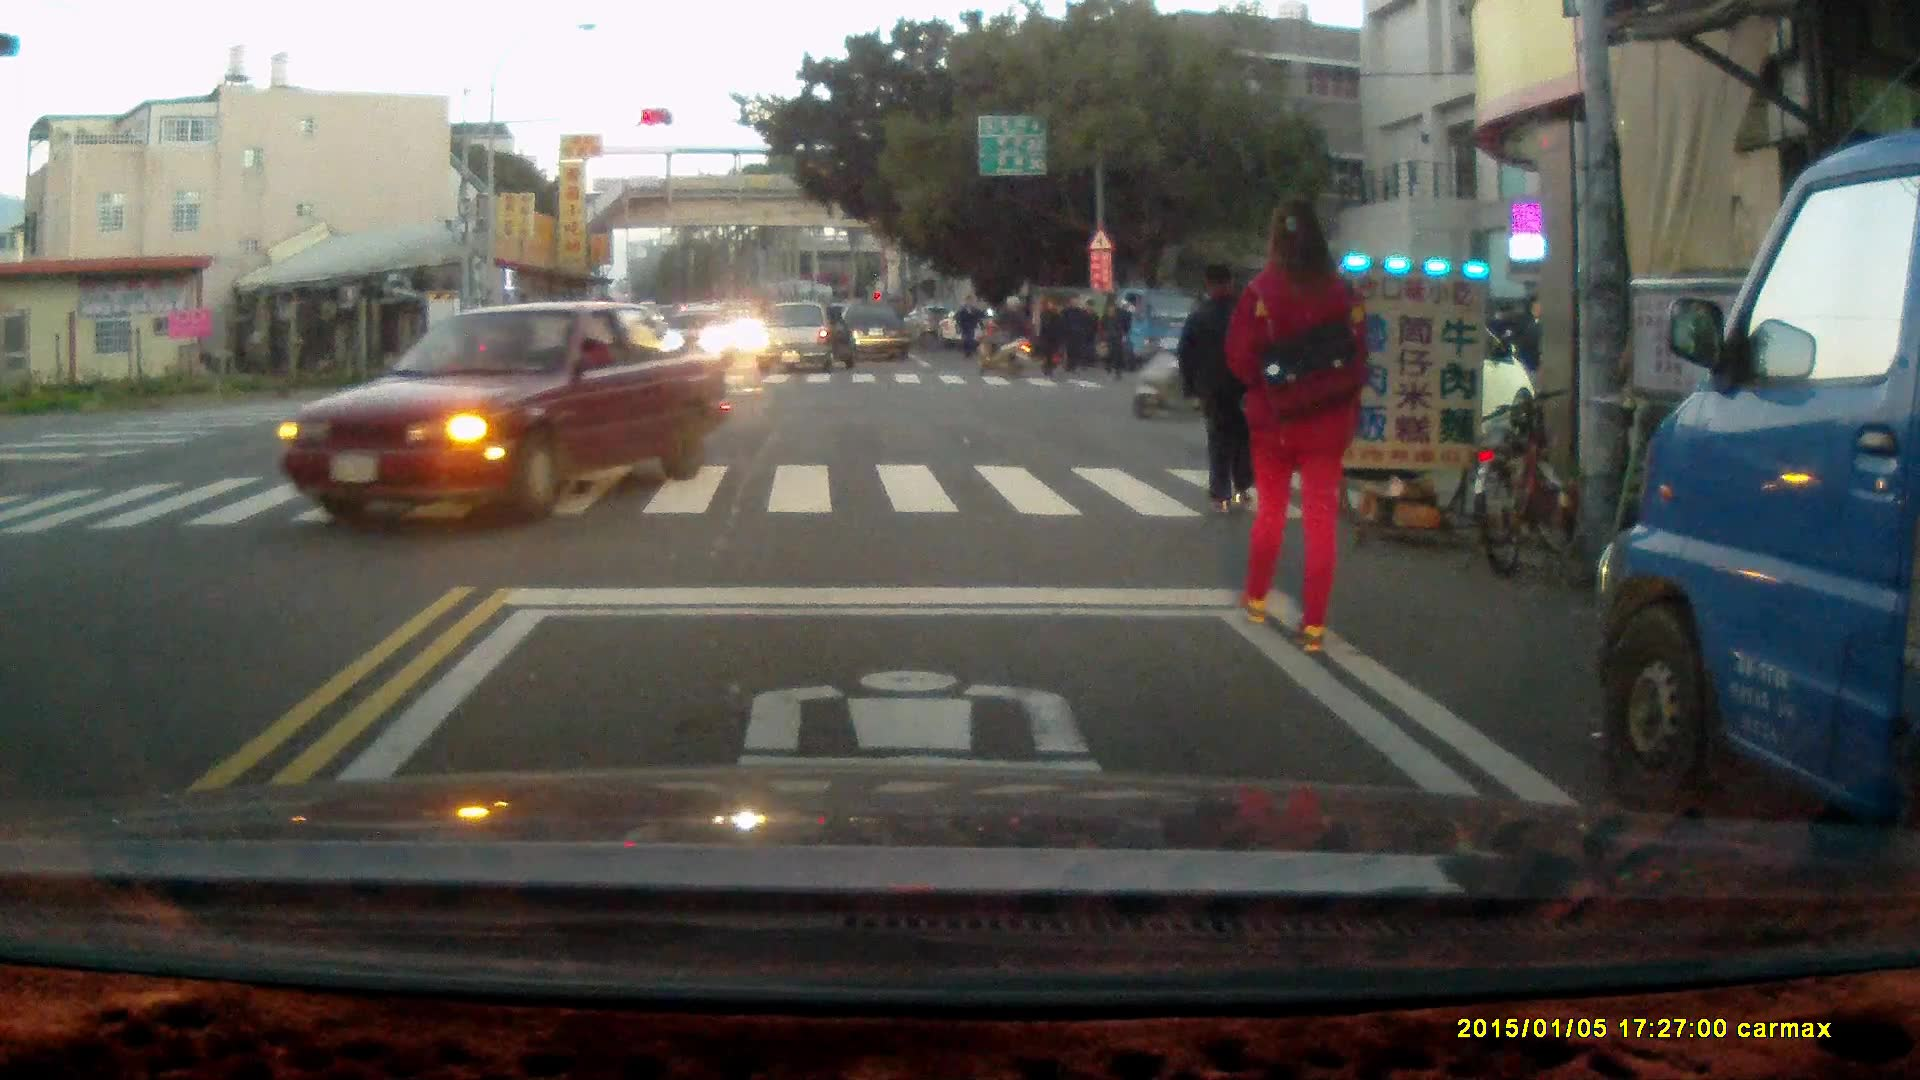pedestrian: (1224, 195, 1361, 653), (1175, 258, 1275, 519), (1502, 293, 1545, 422), (1481, 294, 1516, 404), (1056, 290, 1088, 377), (1034, 293, 1063, 379), (1097, 297, 1124, 371), (955, 291, 978, 363)
rider: (1129, 291, 1230, 420), (980, 293, 1031, 379)
vehicle: (1598, 132, 1920, 869), (278, 303, 733, 519), (1233, 296, 1533, 459), (757, 300, 855, 378), (831, 301, 914, 366)
